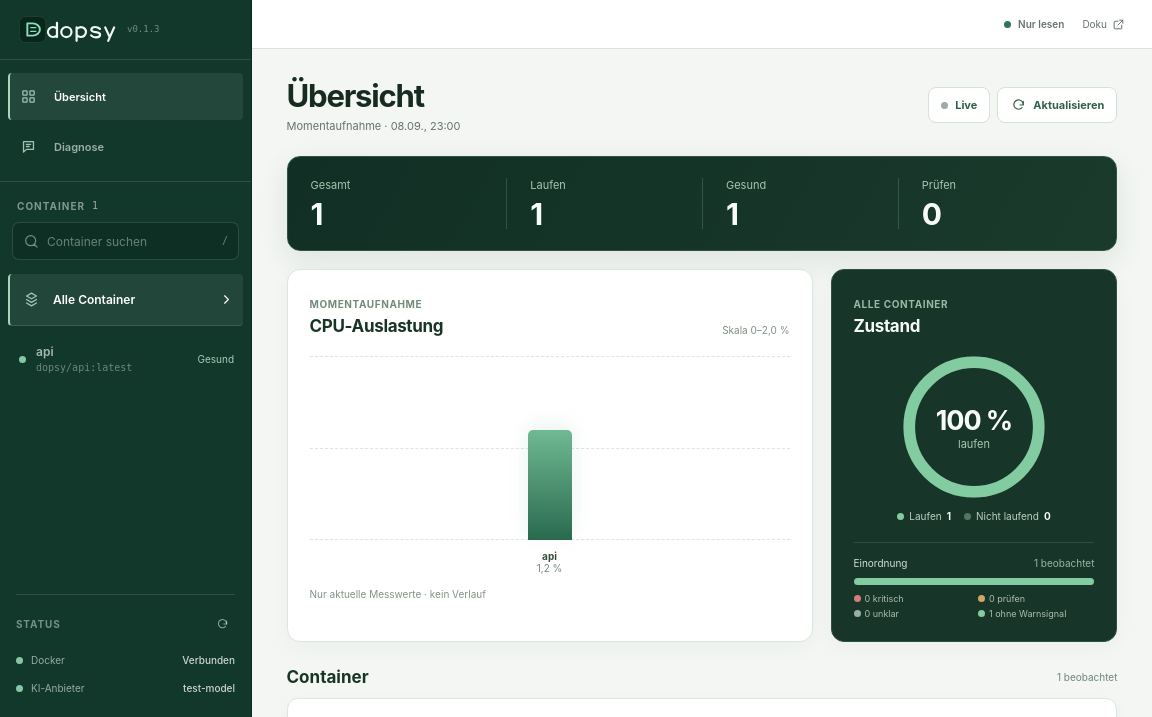
Dopsy app › opens the overview with container and system status
This screenshot has width=1152, height=717.
Check: the heading "Übersicht" is shown, box 286,77 -> 424,115
Check: the navigation bar named "Bereiche" is shown, box 0,60 -> 251,182
Click the button "Diagnose".
click(126, 146)  # box 8,123 -> 243,170
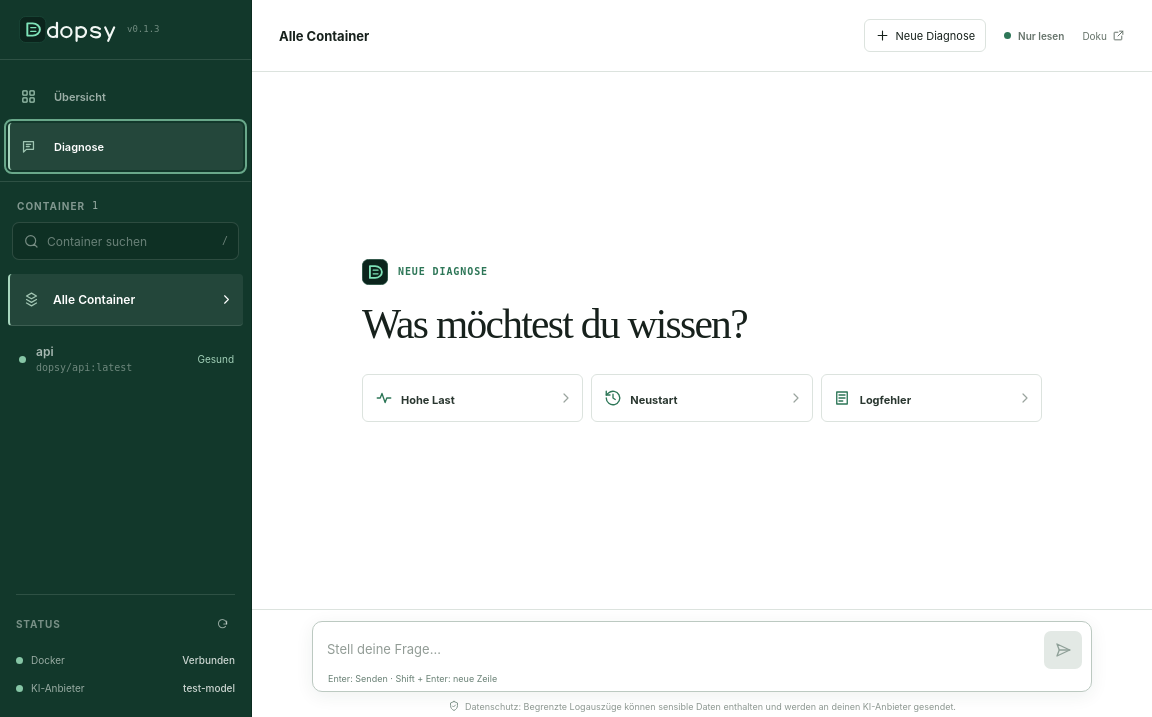
Check: the text "Begrenzte Logauszüge können sensible Daten enthalten" is shown, box 465,700 -> 956,712
